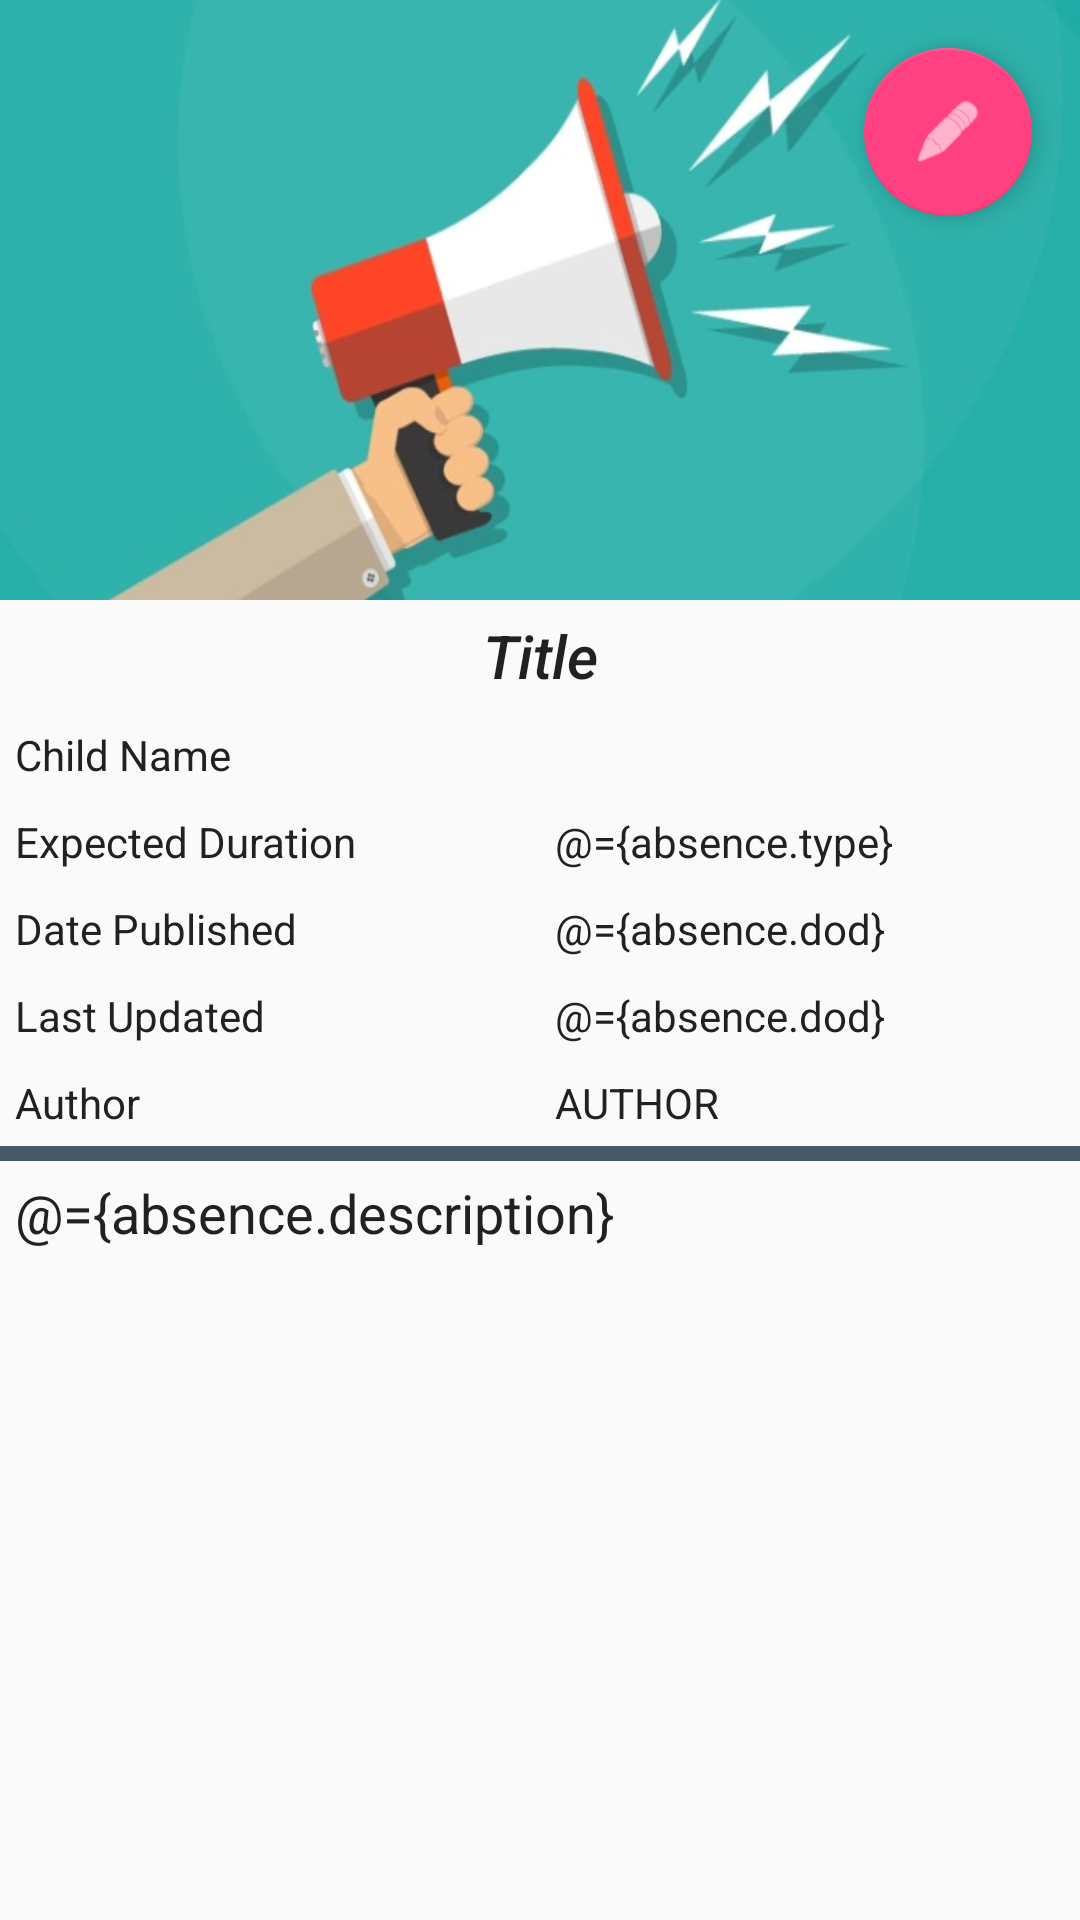

Screen size 1080 × 1920. Icon name, then its box in pixels as (x1, y1, x2, y2):
edit: (864, 48, 1032, 216)
